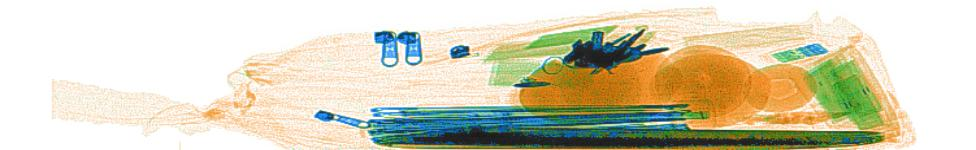USBFlashDisk: (770, 41, 826, 65)
